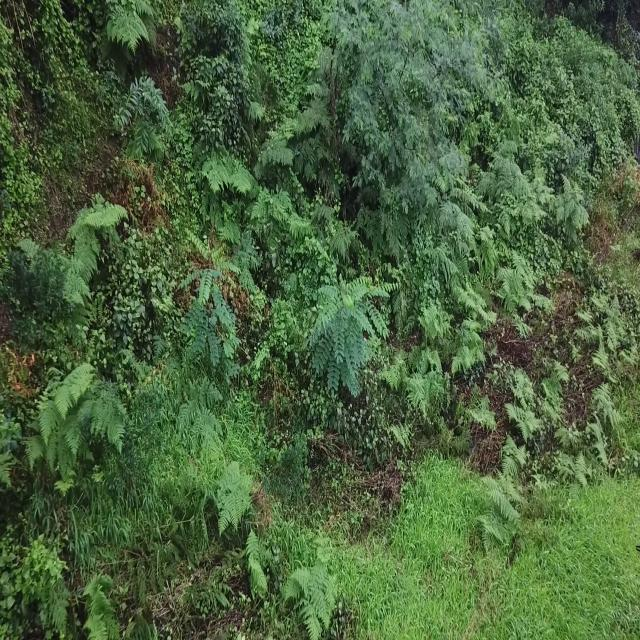Mysore-Thorn-Weed: (310, 270, 390, 390), (176, 226, 236, 365)
